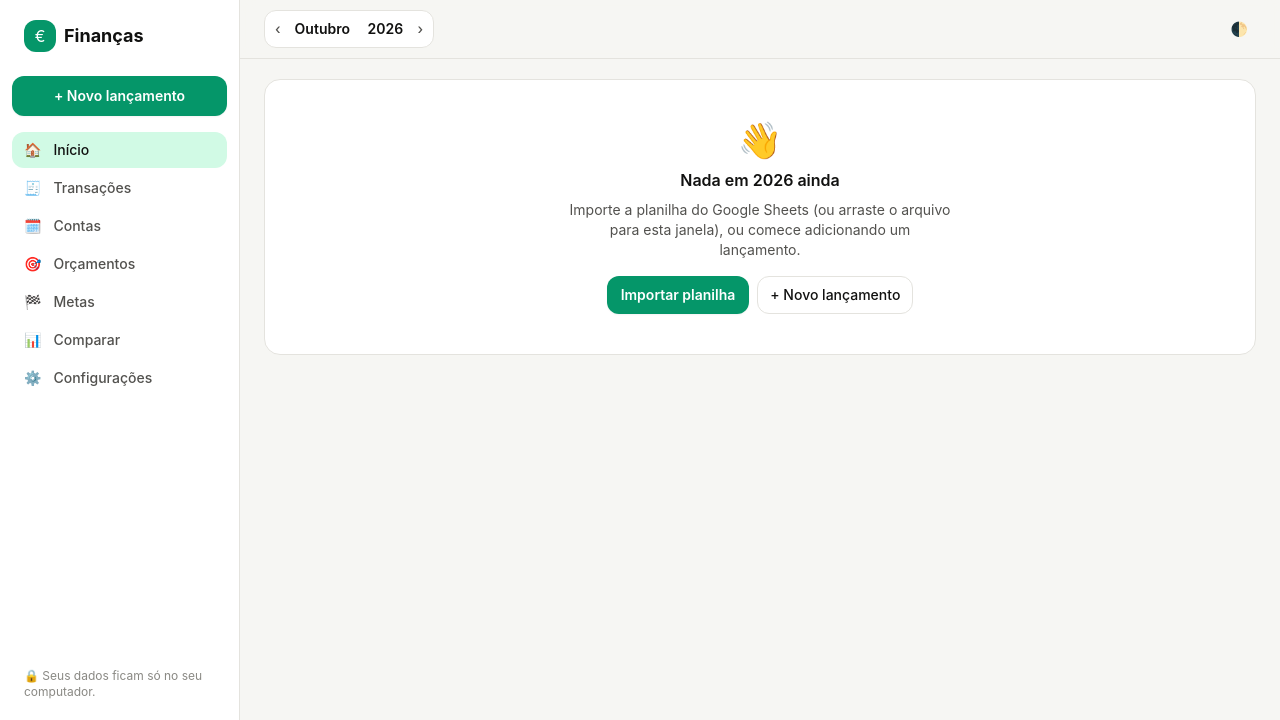
it: App shell › the month arrows roll over the year
Expected: the heading "Nada em 2026 ainda" is shown, [680,168,840,192]
Select "Dezembro" in the 1st dropdown named "Mês" at coordinates (328, 29), box [291,15,366,43]
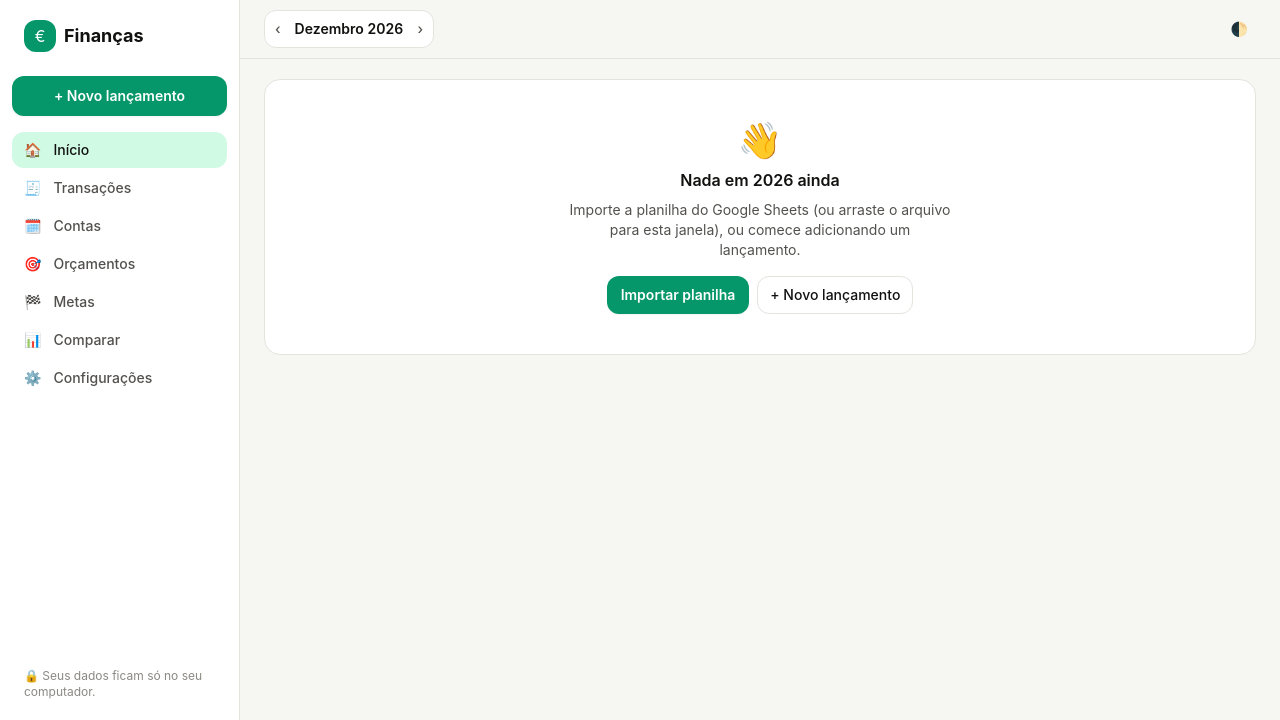
Click the button named "Próximo mês" at coordinates (420, 29), box [410,13,431,45]
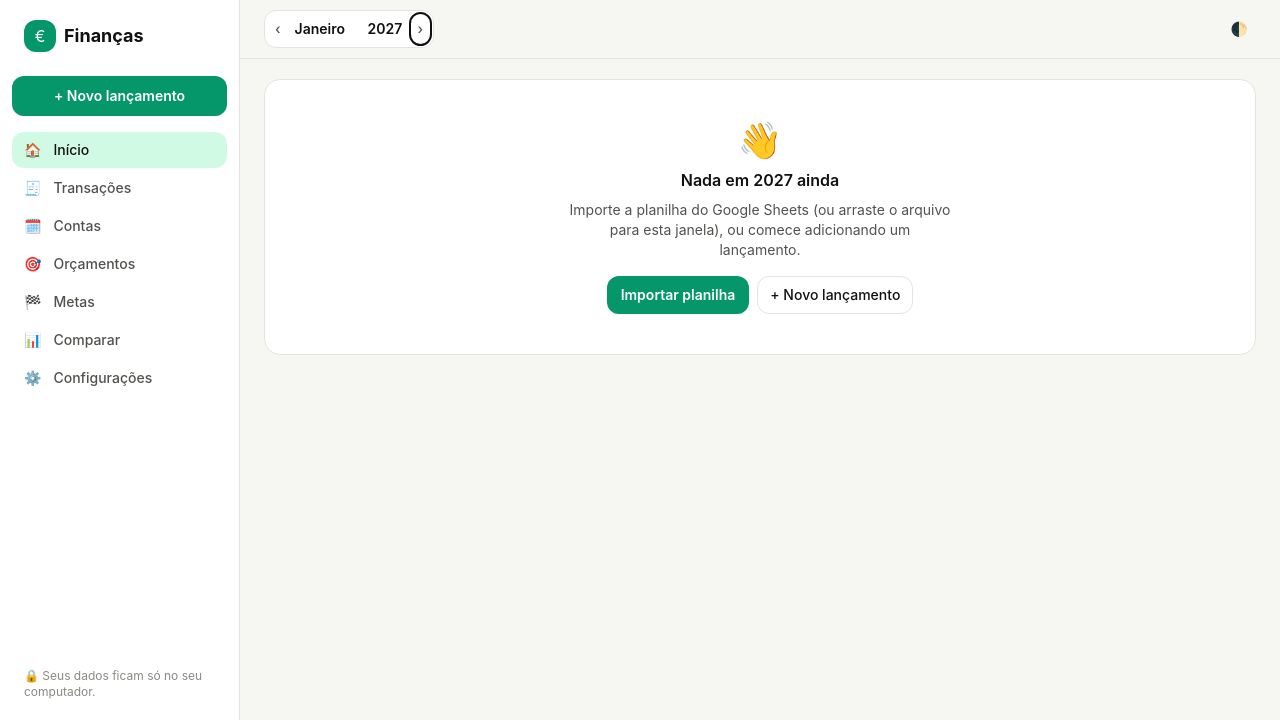
Expected: the 2nd dropdown named "Ano" shows "2027", [368,15,408,43]
Click the button named "Mês anterior" at coordinates (278, 29), box [267,13,289,45]
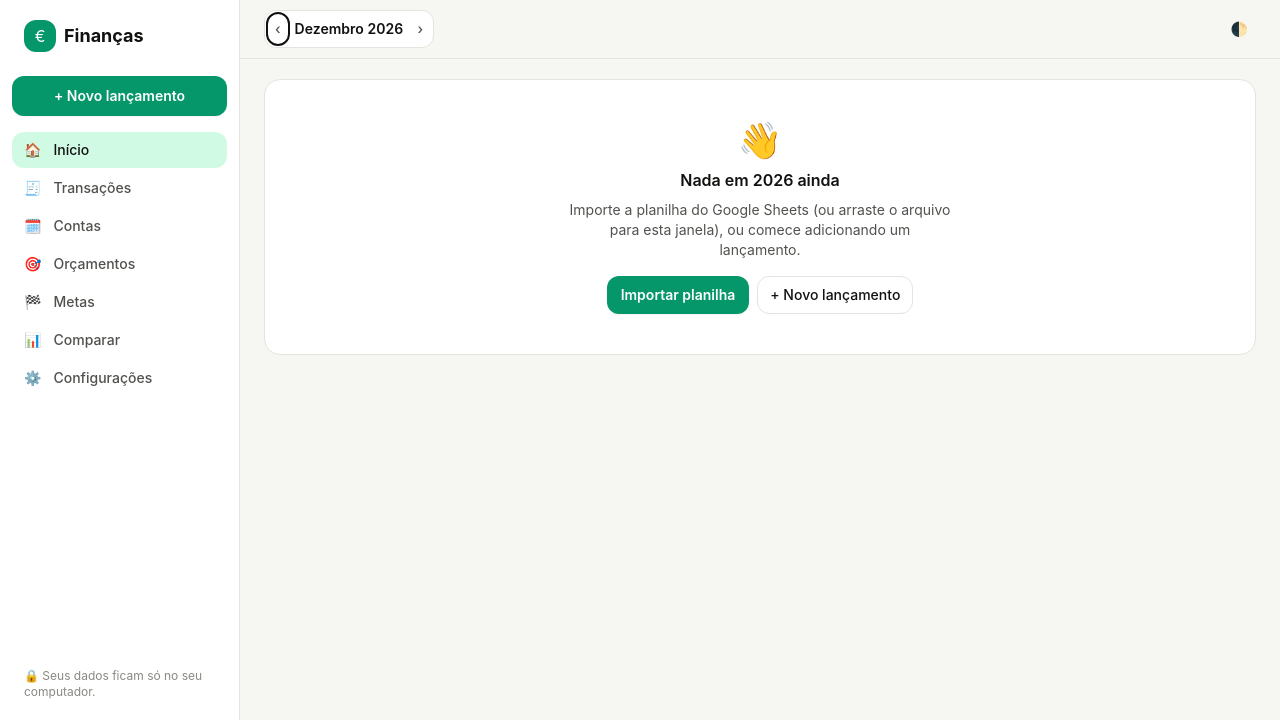
Expected: the 2nd dropdown named "Ano" shows "2026", [368,15,408,43]
